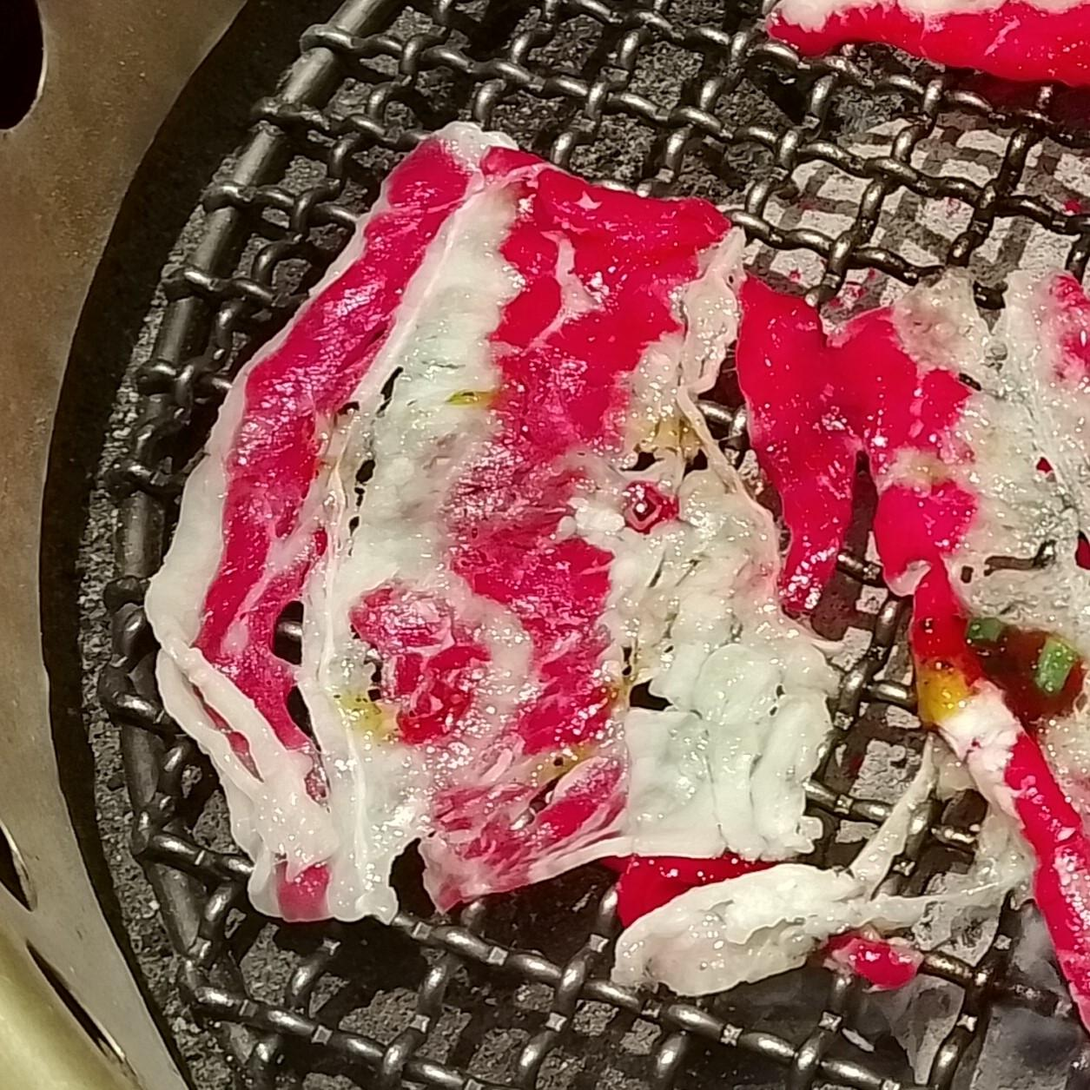Undercooked: (144, 123, 967, 995)
